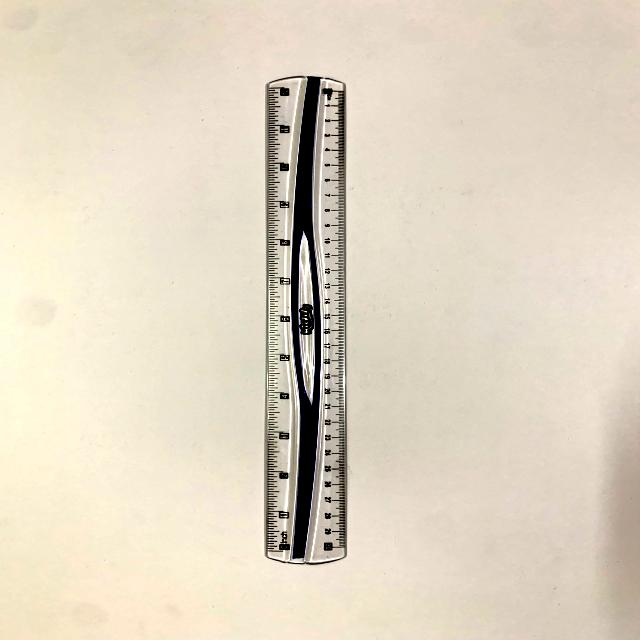Scale: (229, 52, 399, 574)
